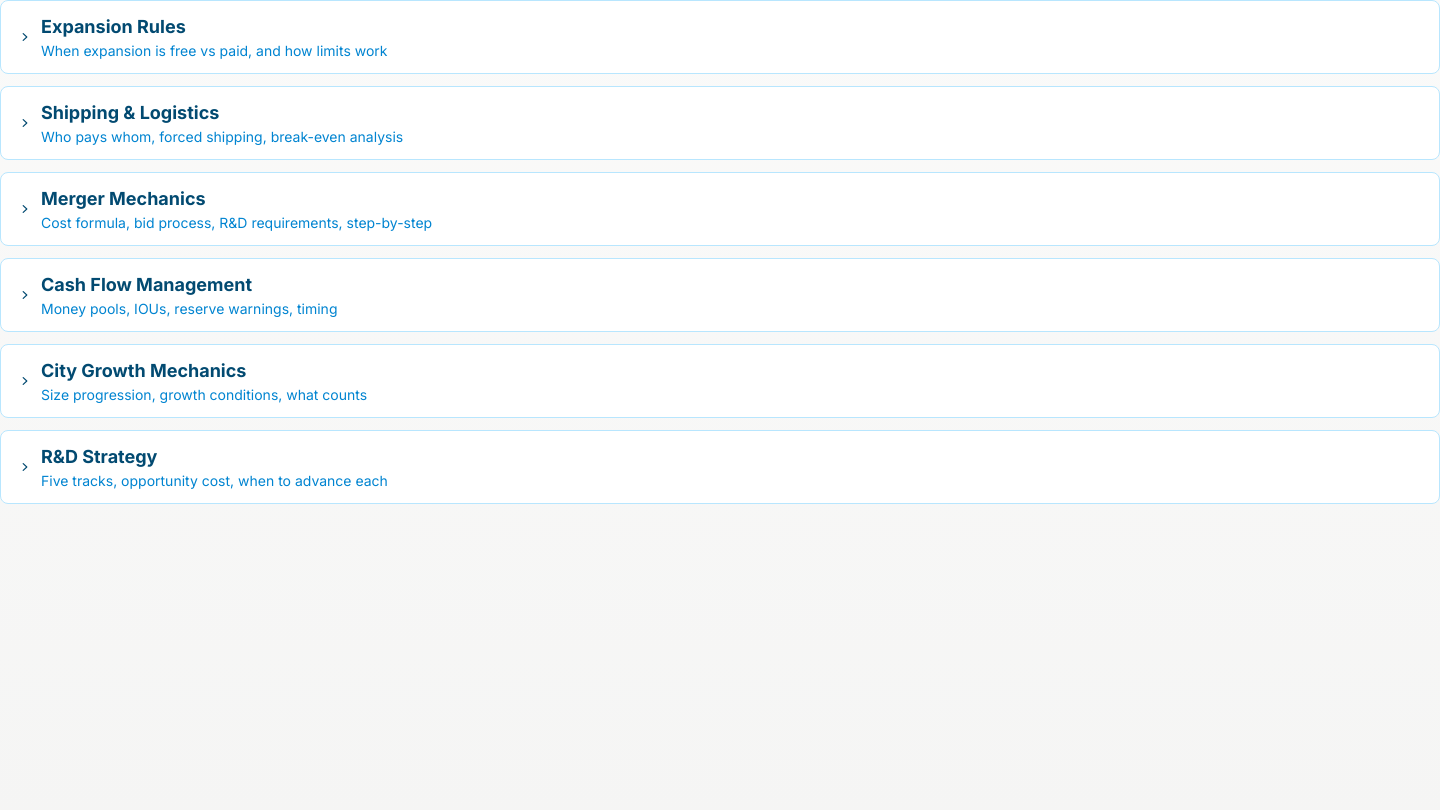
Scenario: ClarifiedRules › should expand details when summary is clicked
This screenshot has width=1440, height=810.
Click the text "Expansion Rules". click: [113, 26]
box: [41,16,186,37]
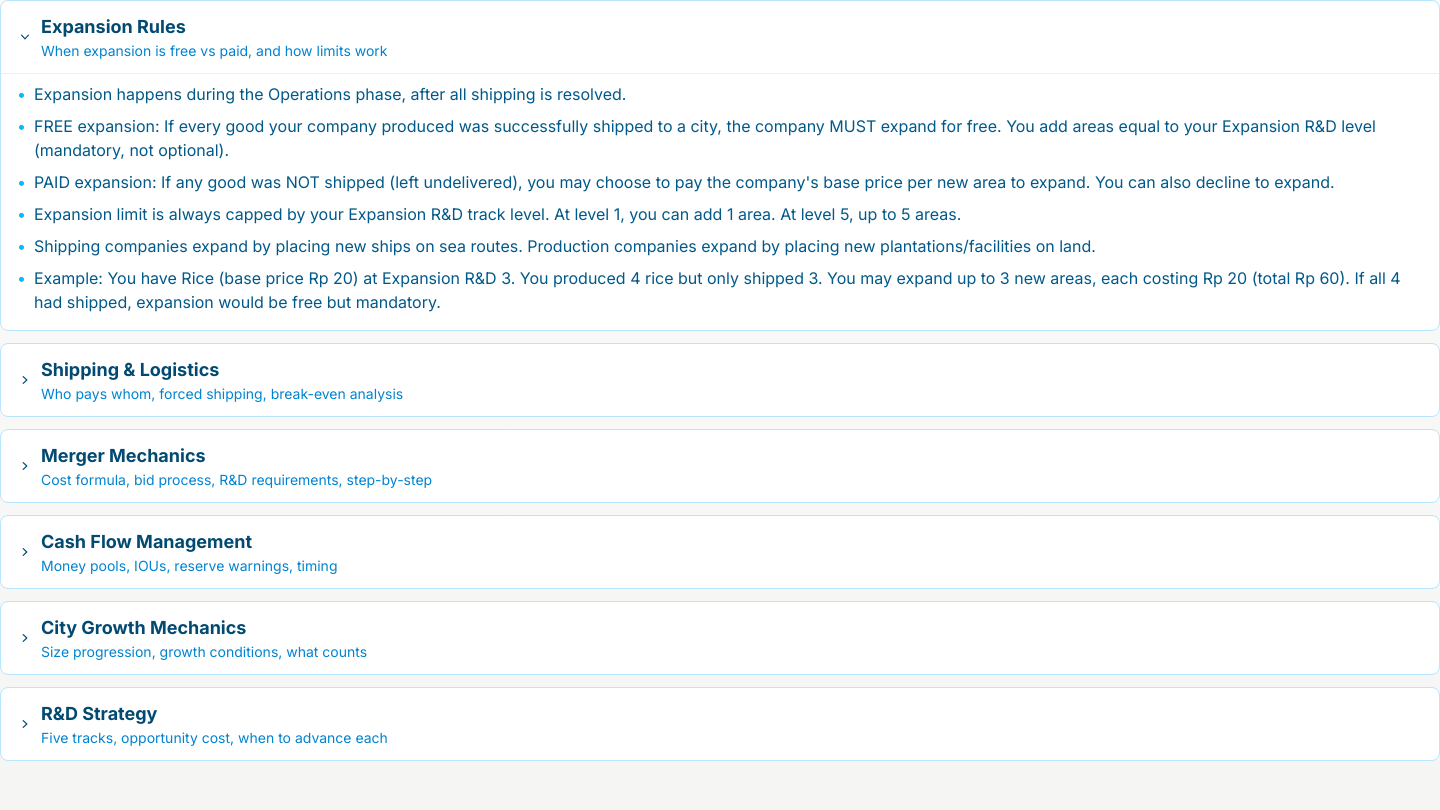
Expected: the text "Expansion happens during the Operations phase, after all shipping is resolved." is shown, [34,82,626,106]
Expected: the text "FREE expansion: If every good your company produced was successfully shipped to a city, the company MUST expand for free" is shown, [34,116,1376,160]
Expected: the text "PAID expansion: If any good was NOT shipped (left undelivered), you may choose to pay the company's base price per new a" is shown, [34,172,1335,192]
